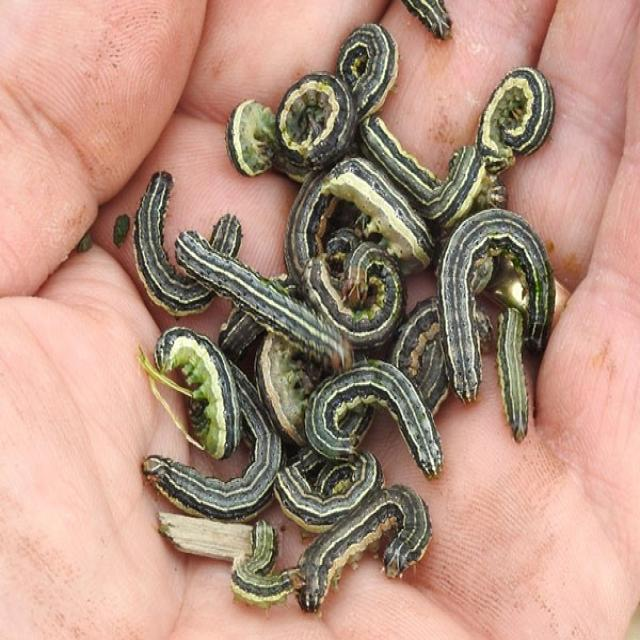Fall-Armyworm: (176, 225, 359, 369), (142, 355, 285, 519), (443, 203, 559, 394), (307, 352, 448, 482), (294, 496, 437, 620), (137, 162, 243, 321), (148, 323, 246, 469), (354, 114, 450, 219), (476, 63, 561, 174), (278, 63, 358, 174), (276, 446, 388, 519), (226, 518, 297, 610), (221, 87, 285, 181), (500, 292, 539, 442), (337, 26, 399, 114), (401, 1, 458, 49)
